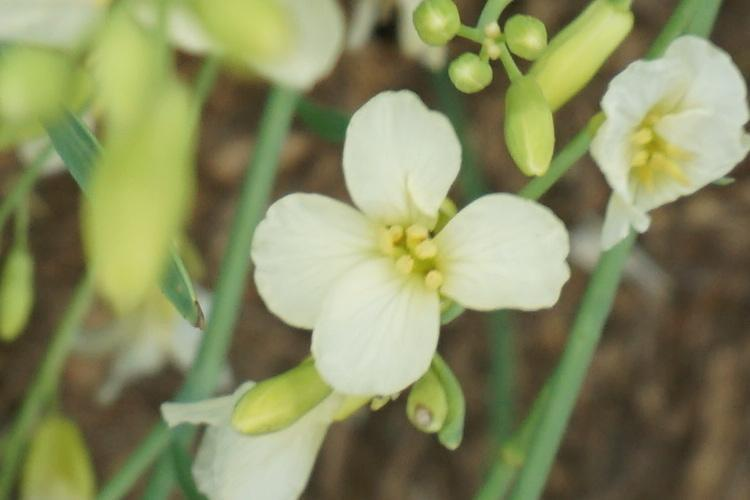bud: (101, 91, 228, 311), (533, 4, 635, 121), (218, 360, 330, 433), (494, 78, 566, 187), (396, 374, 455, 442), (442, 43, 503, 101), (500, 11, 558, 66), (409, 6, 464, 47)
white: (258, 99, 582, 395), (609, 48, 748, 241)
